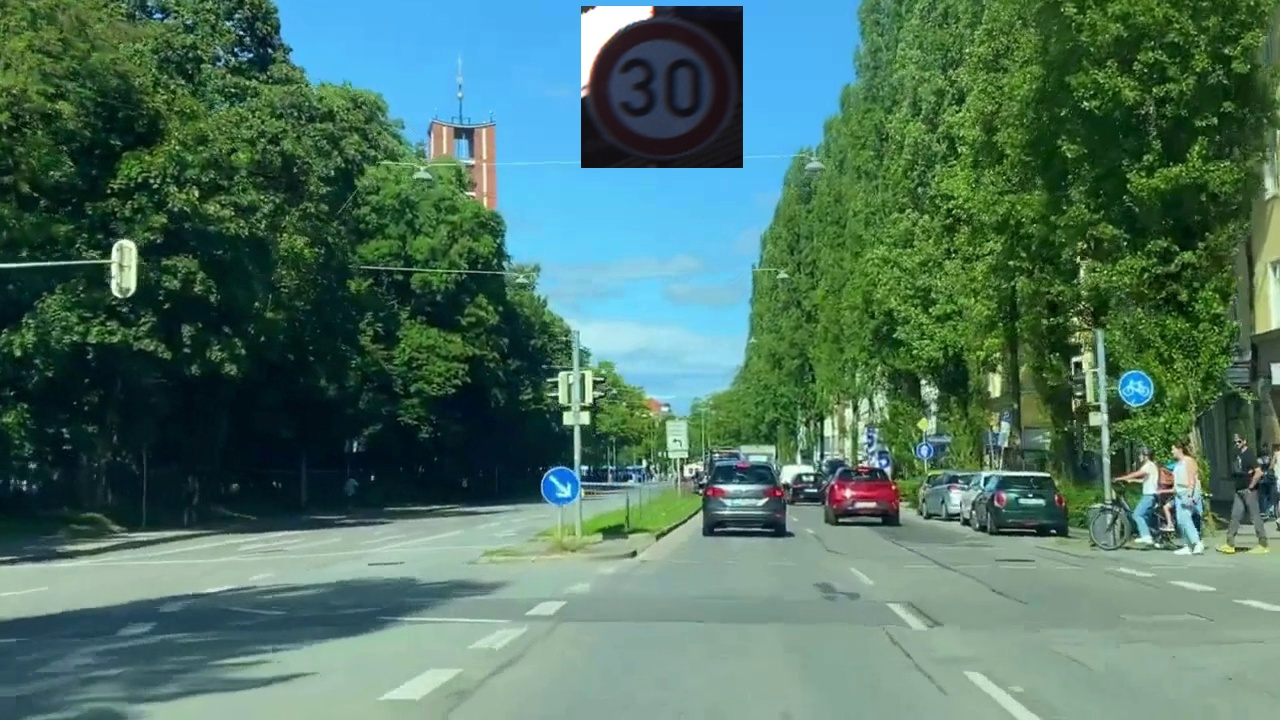Speed 30: (581, 6, 743, 168)
